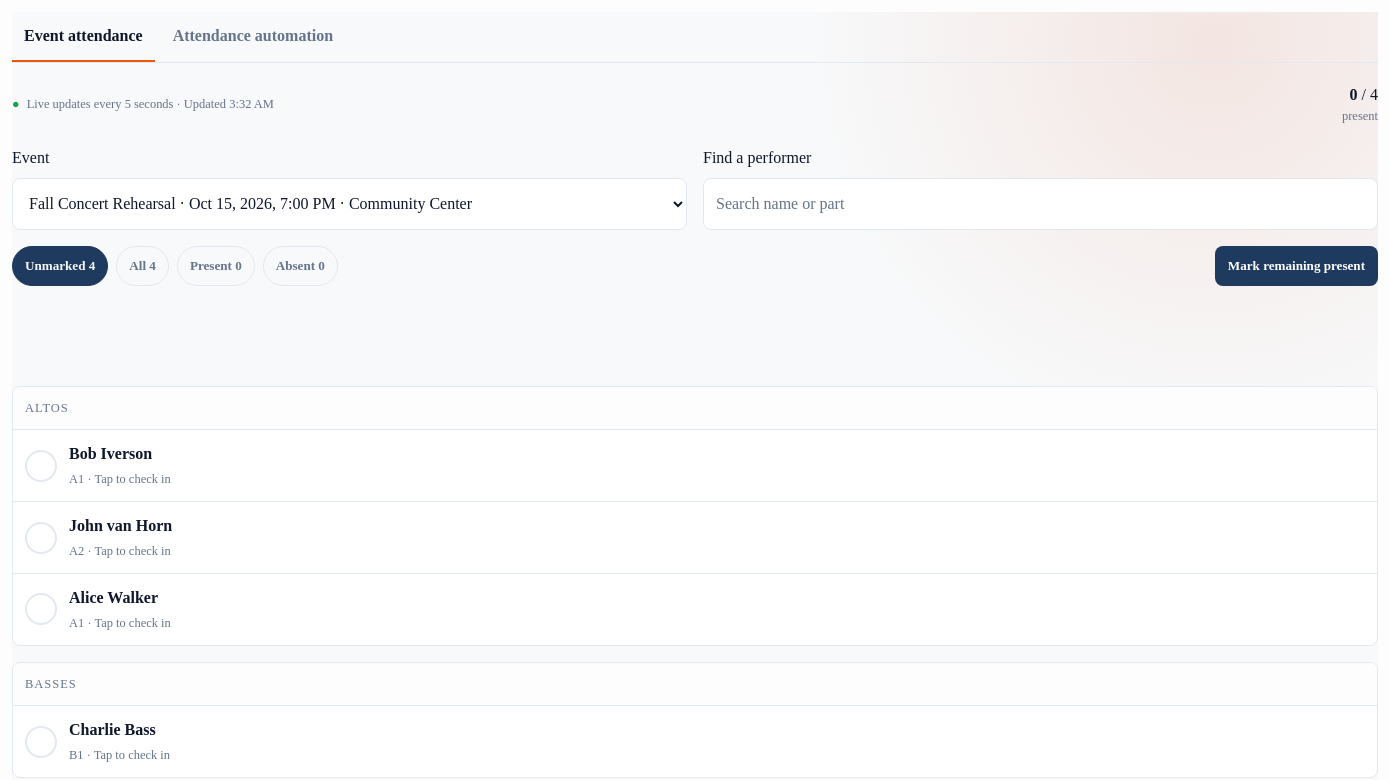
Scenario: AttendanceManager section grouping and sorting UI › safely isolates optimistic rollback when concurrent row saves fail and succeed
This screenshot has width=1390, height=780.
Check: the text "Bob Iverson" is shown, box [69, 445, 152, 462]
Check: the text "Charlie Bass" is shown, box [69, 718, 170, 742]
Click the button "All 4": [143, 266] box [116, 246, 169, 286]
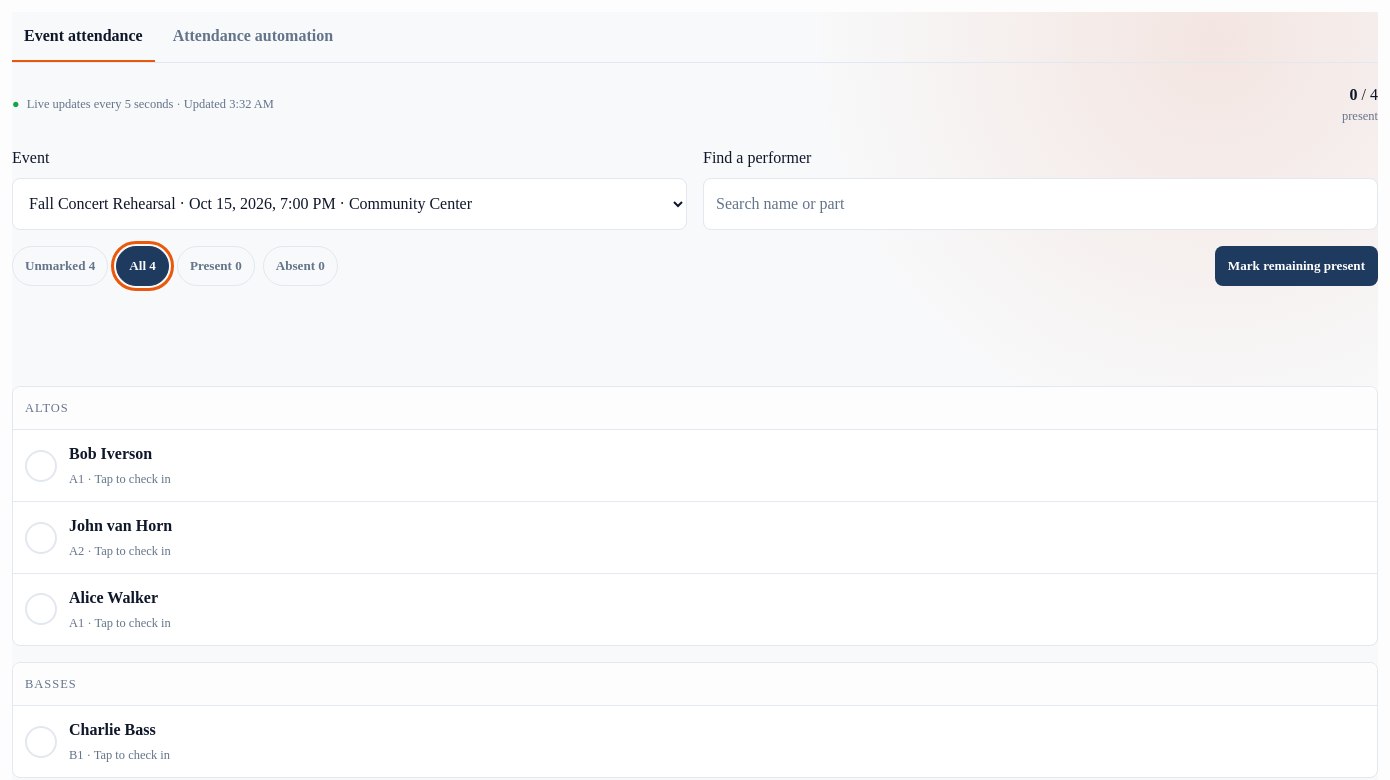
// Click Bob then Charlie
Click the button with aria-label "Bob Iverson: Tap to check in": [41, 466] box [13, 430, 1377, 501]
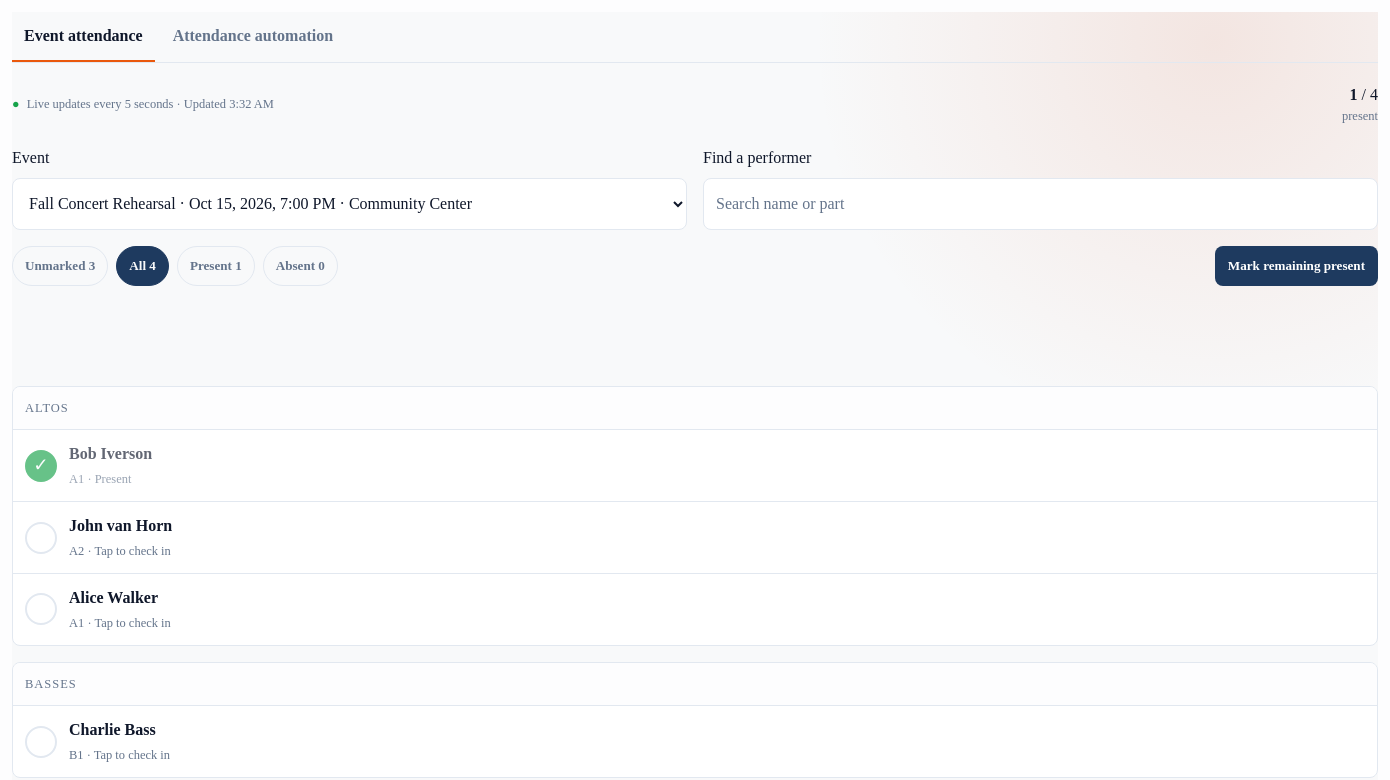
Click the button with aria-label "Charlie Bass: Tap to check in": [41, 742] box [13, 706, 1377, 777]
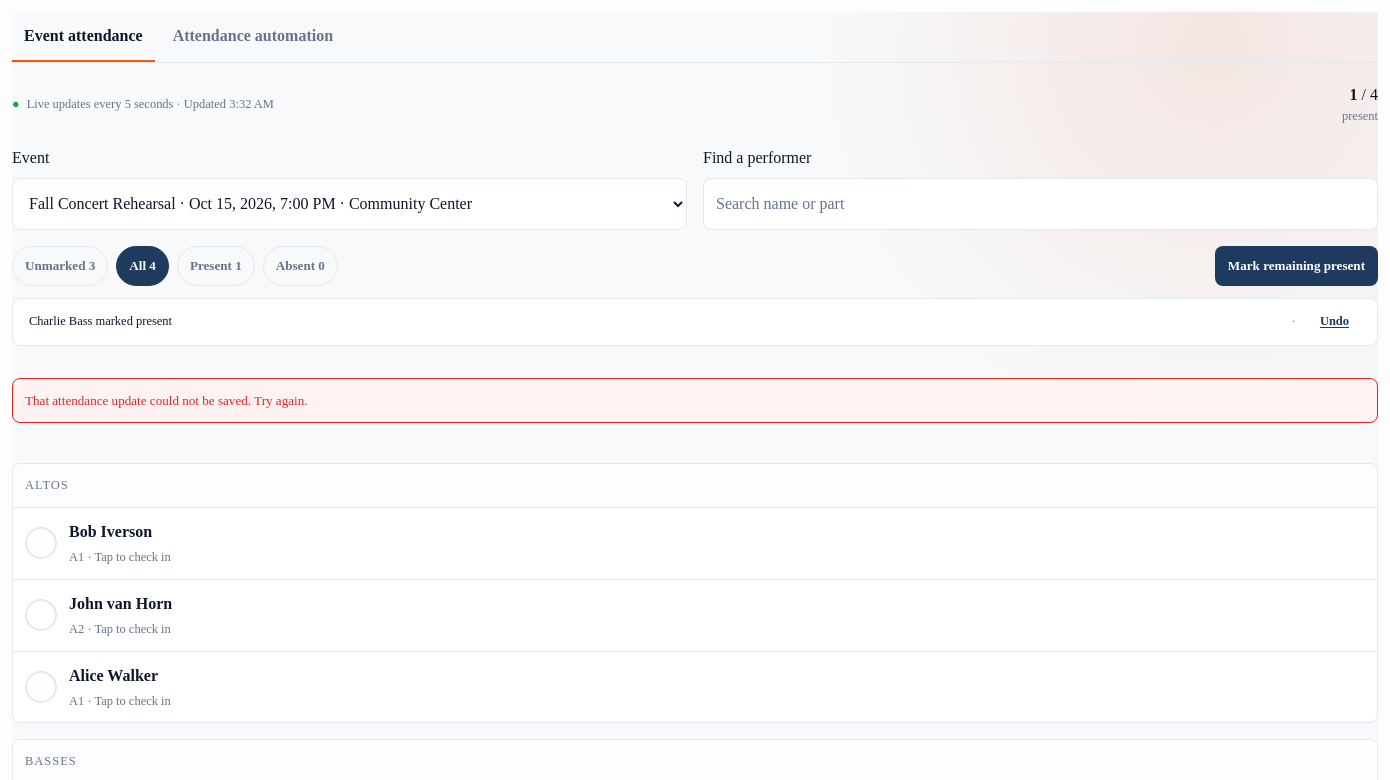
Check: the button with aria-label "Bob Iverson: Tap to check in" is shown, box [13, 508, 1377, 579]
Check: the text "That attendance update could not be saved. Try again." is shown, box [12, 378, 1378, 423]
